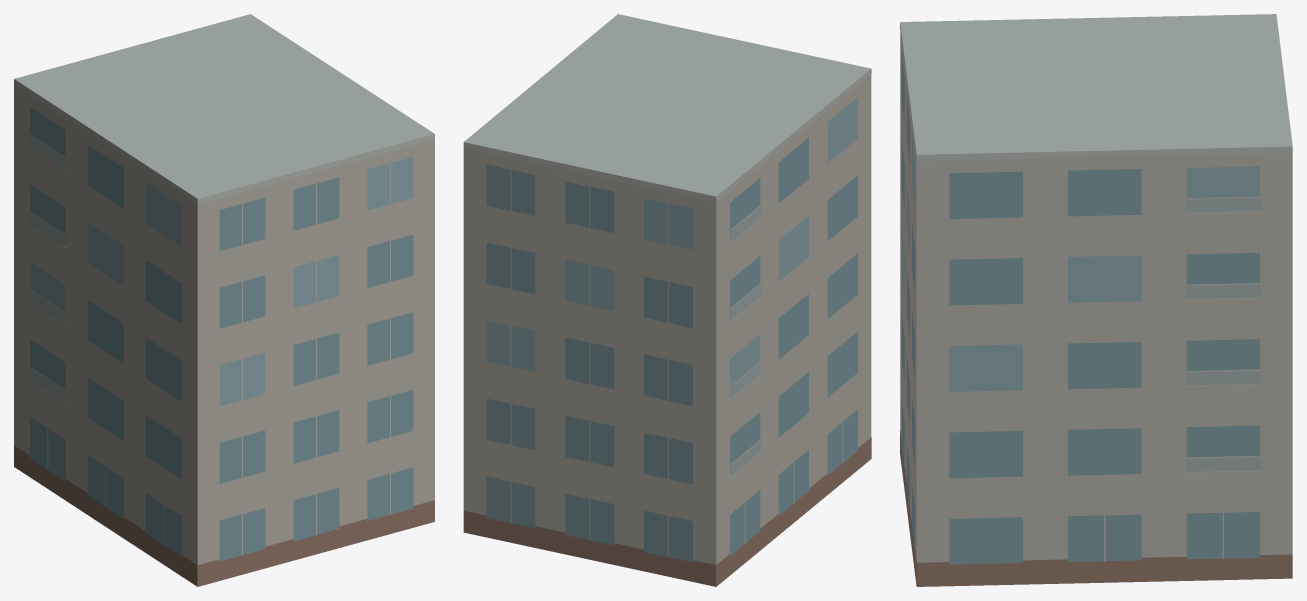
File: survey-upis-32879827.glb
The picture shows the model from 3 angles, left to right: view 1: azimuth 30°, elevation 25°; view 2: azimuth 150°, elevation 25°; view 3: azimuth 270°, elevation 25°; orthographic projection. The views are drawn at different scales.
Visible parts, largest first — view 1: survey-upis-32879827.tmp; view 2: survey-upis-32879827.tmp; view 3: survey-upis-32879827.tmp.
Boxes of the visible parts, bbox=[...] form: survey-upis-32879827.tmp: bbox=[14, 14, 434, 586]; survey-upis-32879827.tmp: bbox=[463, 14, 871, 586]; survey-upis-32879827.tmp: bbox=[900, 14, 1292, 586].
Bounding box in the file's own units: 11.55 × 16.5 × 13.6.
